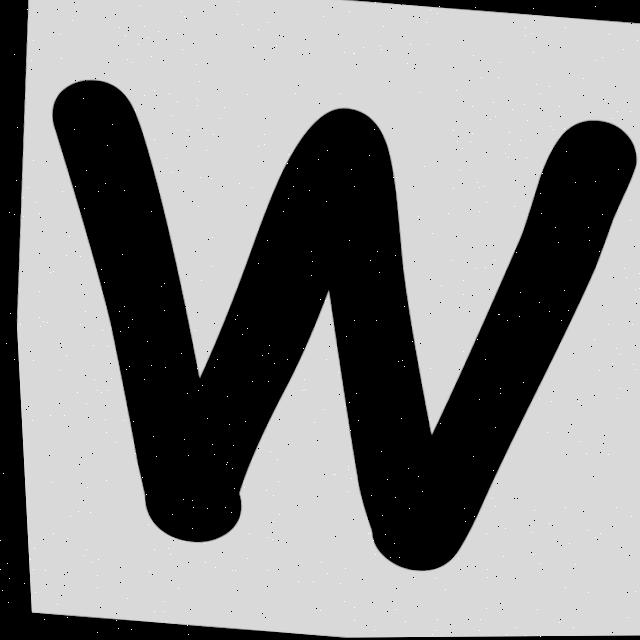W: (51, 80, 634, 570)
